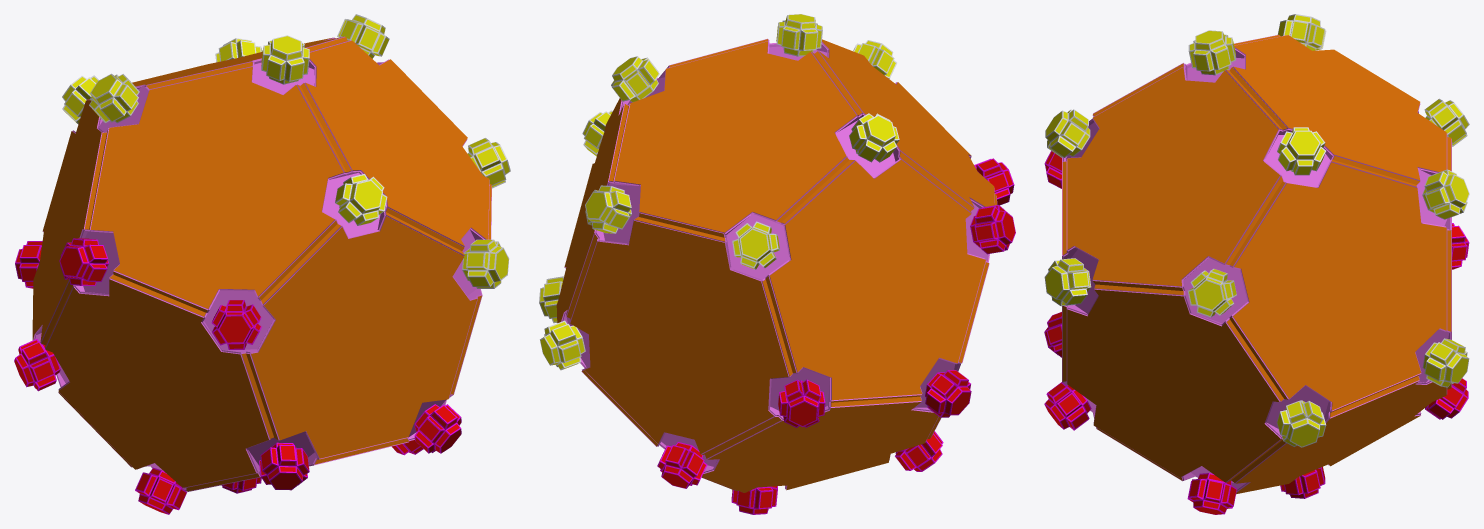
The model's file is Dodecahedron_HiRes_v01.FBX.
The picture shows the model from 3 angles, left to right: view 1: azimuth 30°, elevation 25°; view 2: azimuth 150°, elevation 25°; view 3: azimuth 270°, elevation 25°; orthographic projection. The views are drawn at different scales.
Visible parts, largest first — view 1: GEARS; view 2: GEARS; view 3: GEARS.
Part boxes in pixels (x1,y1,x2,y2): GEARS: [14, 14, 510, 514]; GEARS: [539, 14, 1015, 514]; GEARS: [1044, 14, 1469, 514].
Bounding box in the file's own units: 20.8 × 21.6 × 18.13.
